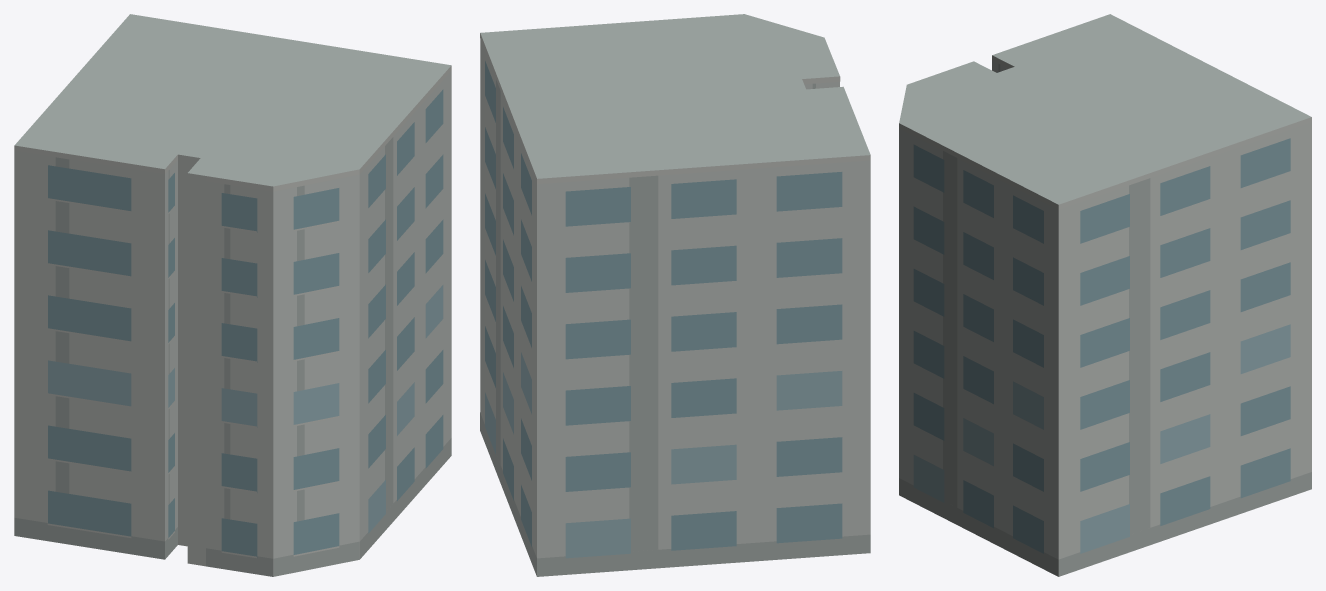
File: survey-upis-32864715.glb
The picture shows the model from 3 angles, left to right: view 1: azimuth 30°, elevation 25°; view 2: azimuth 150°, elevation 25°; view 3: azimuth 270°, elevation 25°; orthographic projection. The views are drawn at different scales.
Visible parts, largest first — view 1: survey-upis-32864715.tmp; view 2: survey-upis-32864715.tmp; view 3: survey-upis-32864715.tmp.
Boxes of the visible parts, left/top/right/bottom form: survey-upis-32864715.tmp: left=14, top=14, right=451, bottom=576; survey-upis-32864715.tmp: left=480, top=14, right=870, bottom=576; survey-upis-32864715.tmp: left=899, top=14, right=1311, bottom=576.
Size of the model in its own units: 19.71 by 17.92 by 18.02.
